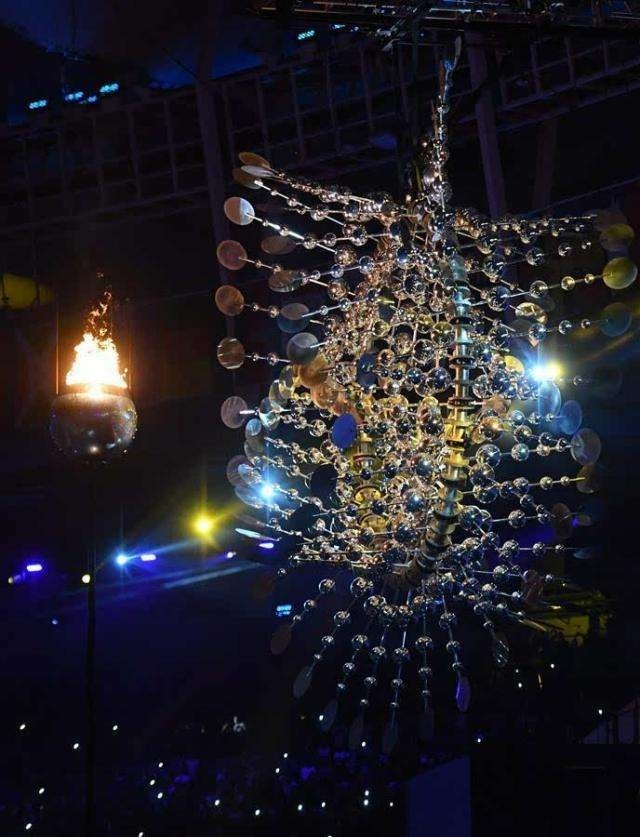fire: (60, 288, 132, 400)
